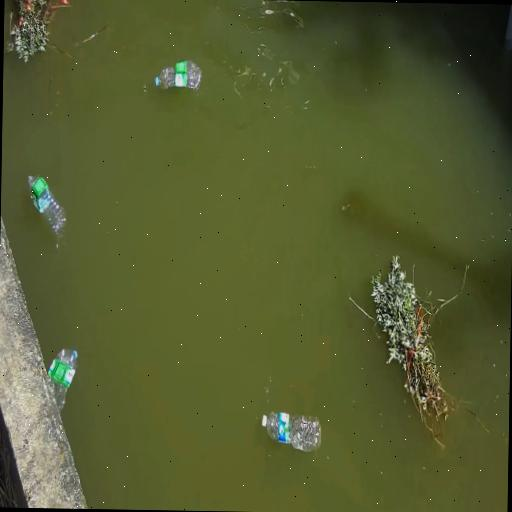plastic: (261, 412, 320, 451), (27, 176, 65, 236), (48, 350, 76, 410), (154, 61, 200, 89)
twig: (349, 256, 469, 447), (7, 0, 62, 62)
